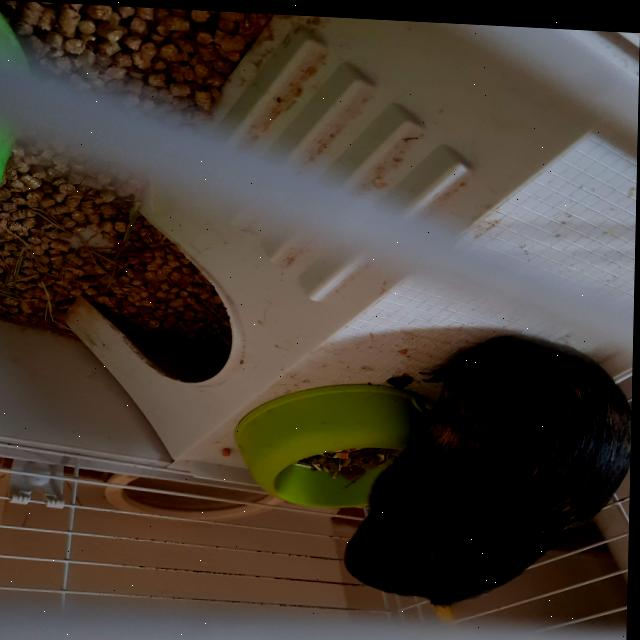guinea pig: (341, 324, 634, 612)
